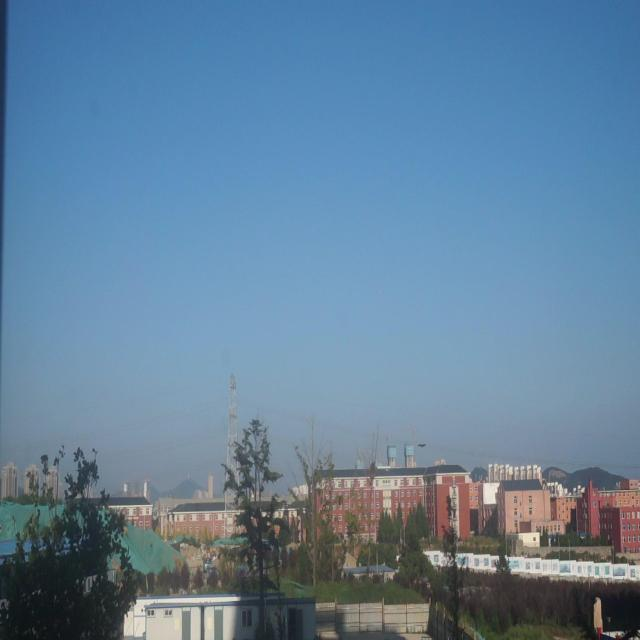drone: (417, 439, 428, 453)
